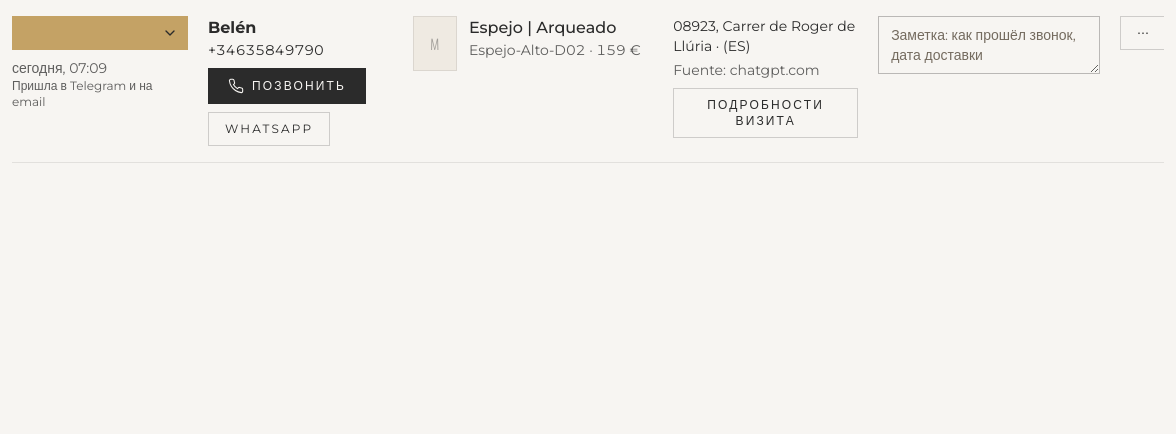
Подробности визита › lists the earlier visits
This screenshot has width=1176, height=434.
Click the button "Подробности визита": (766, 113) [673,88,858,138]
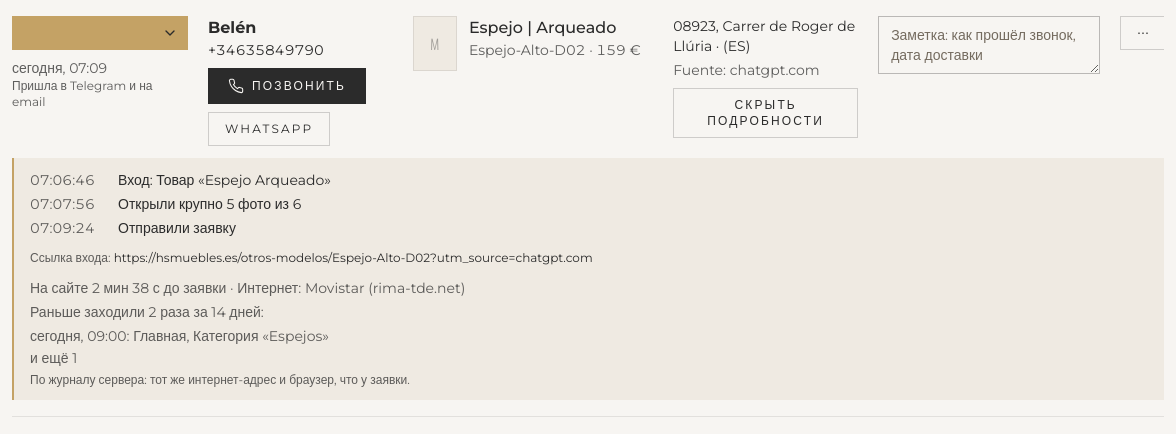
Now the text "Раньше заходили 2 раза за 14 дней:" is shown, box [30,303,264,321]
Now the list item "сегодня, 09:00: Главная, Категория «Espejos»" is shown, box [30,327,329,345]
Now the list item "и ещё 1" is shown, box [30,349,77,367]
